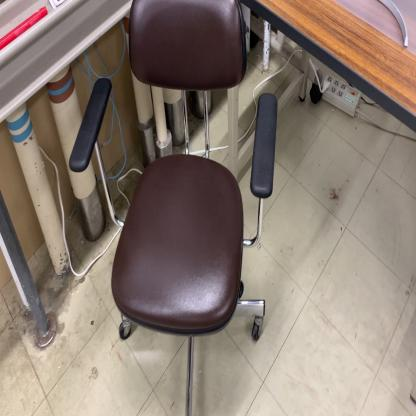chair: (67, 0, 280, 407)
